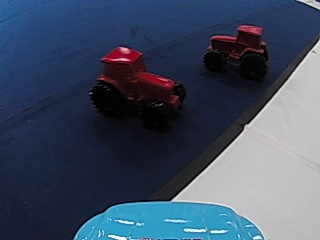tractor: (89, 43, 187, 126), (204, 21, 272, 79)
